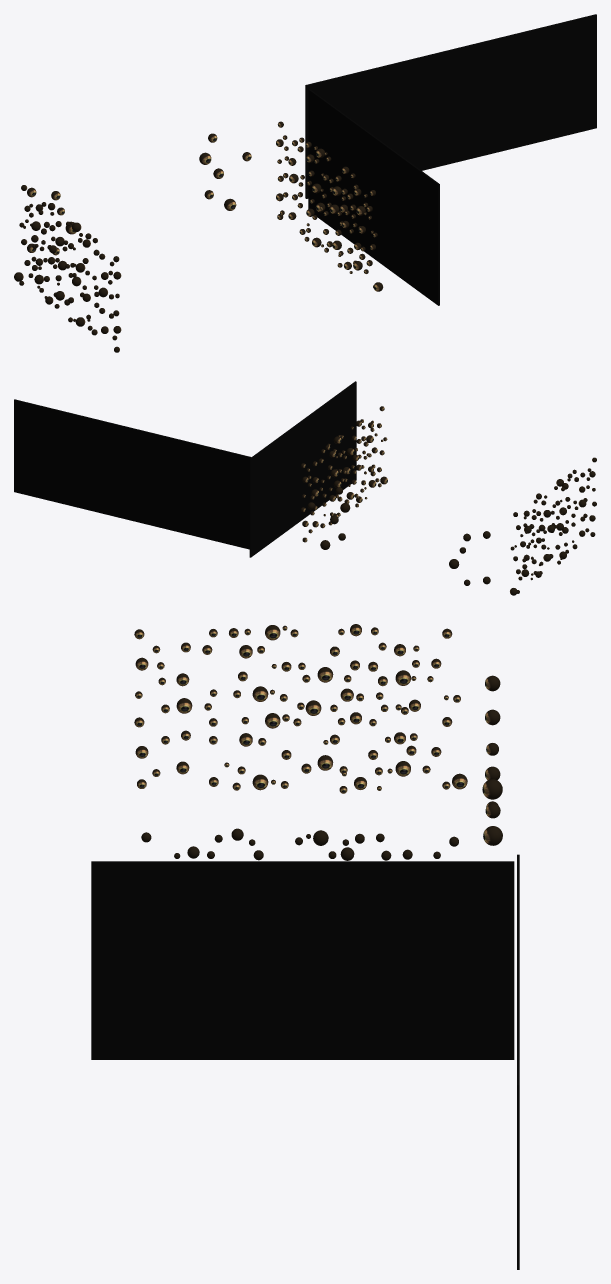
Rendered from theater_puzzle_allEyes.fbx.
3 views of the same model, one above another, from view 1: azimuth 30°, elevation 25°; view 2: azimuth 150°, elevation 25°; view 3: azimuth 270°, elevation 25° (orthographic). The views are drawn at different scales.
Parts seen in each view (by area): view 1: eye_wall_concept:pCube21, pCube176; view 2: eye_wall_concept:pCube21, pCube176; view 3: pCube176, eye_wall_concept:pCube21.
Part boxes in pixels (x1,y1,x2,y2): eye_wall_concept:pCube21: (305, 14, 596, 198); pCube176: (308, 89, 439, 305); eye_wall_concept:pCube21: (14, 399, 251, 549); pCube176: (249, 381, 356, 557); pCube176: (91, 861, 514, 1059); eye_wall_concept:pCube21: (517, 854, 519, 1269).
Bounding box in the file's own units: 601 × 119 × 228.
